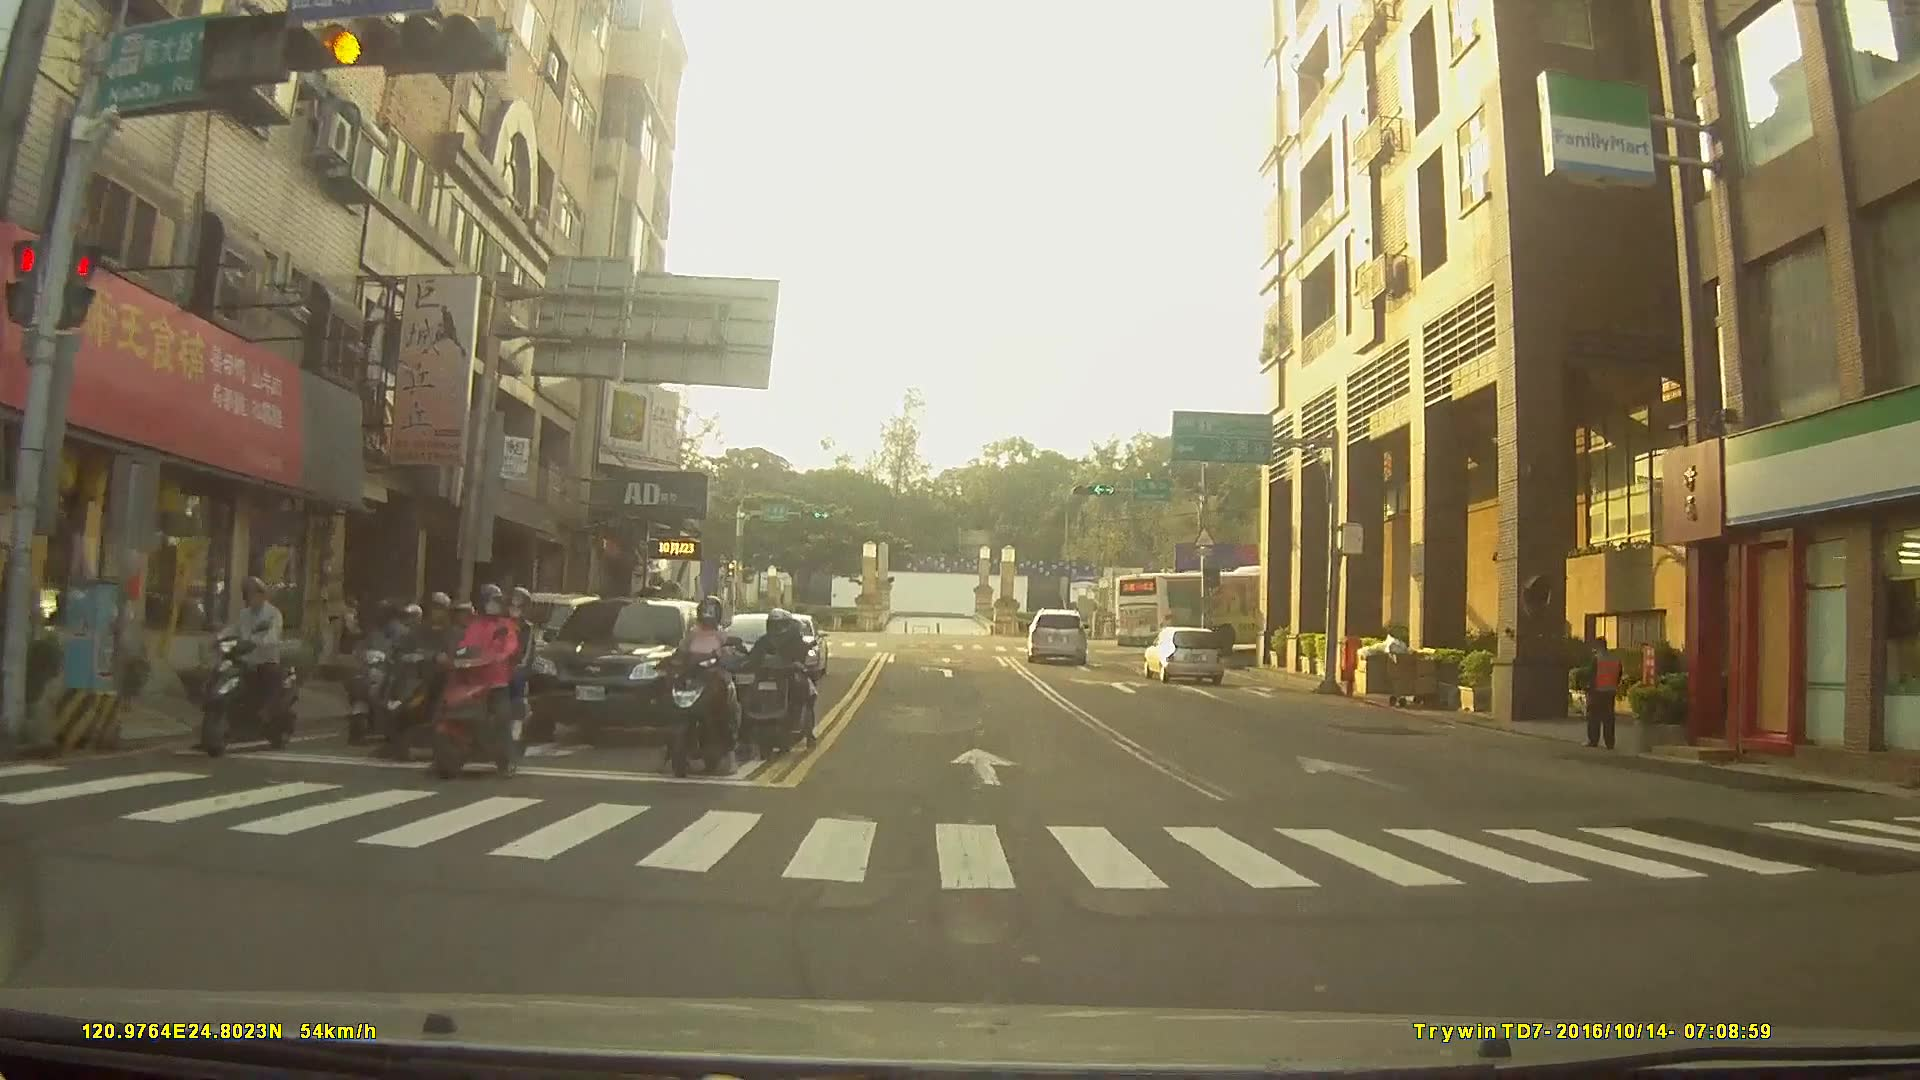pedestrian: (1576, 633, 1635, 754)
rider: (430, 582, 539, 780), (201, 577, 300, 756), (373, 586, 473, 764), (662, 597, 755, 778), (736, 609, 815, 762)
vehicle: (520, 593, 724, 743), (1113, 560, 1322, 655), (1141, 623, 1224, 681), (1025, 603, 1085, 660)
